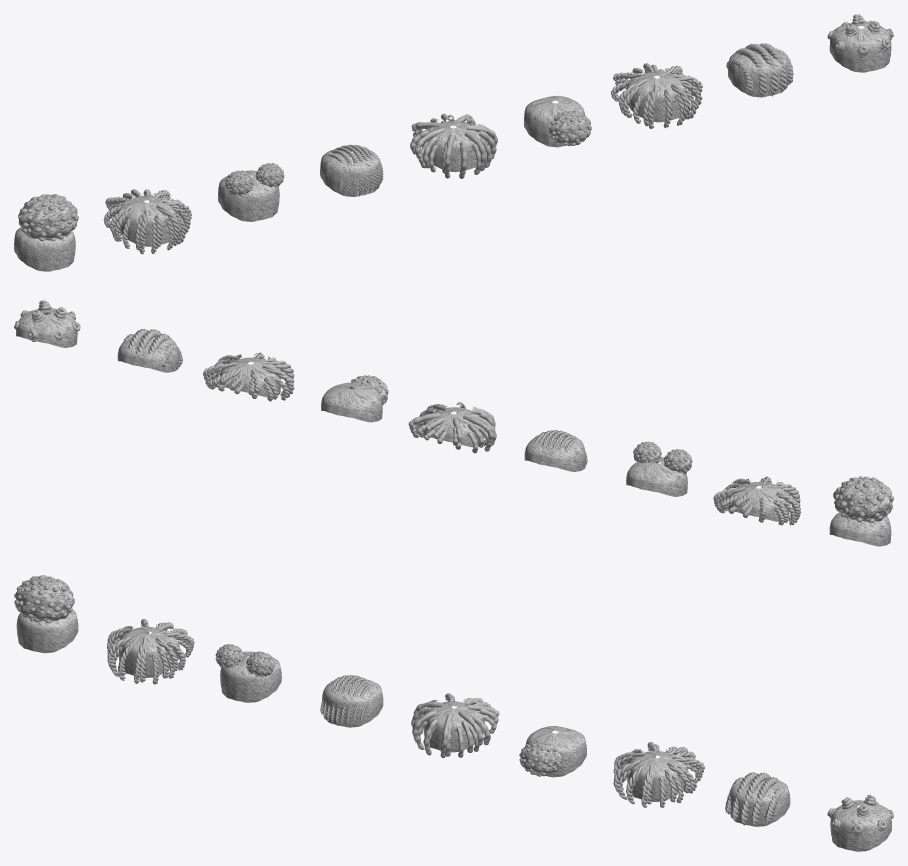
File: resident-grooms.glb
The picture shows the model from 3 angles, top to bottom: view 1: azimuth 30°, elevation 25°; view 2: azimuth 150°, elevation 25°; view 3: azimuth 330°, elevation 25°; orthographic projection.
Visible parts, largest first — view 1: Twist out, Twists, Short locs, High puff, Twin buns, Barrel twists, Bantu knots, Low puff, Cornrows; view 2: High puff, Twist out, Short locs, Twists, Twin buns, Low puff, Bantu knots, Barrel twists, Cornrows; view 3: Twist out, High puff, Twists, Short locs, Twin buns, Bantu knots, Barrel twists, Low puff, Cornrows.
Boxes of the visible parts, x1,y1,x2,y2 form: Twist out: (611, 63, 702, 128); Twists: (103, 189, 191, 254); Short locs: (410, 113, 497, 178); High puff: (14, 194, 78, 271); Twin buns: (218, 163, 284, 221); Barrel twists: (726, 43, 793, 97); Bantu knots: (827, 14, 893, 72); Low puff: (524, 95, 591, 147); Cornrows: (320, 144, 383, 196); High puff: (829, 476, 893, 546); Twist out: (203, 352, 294, 401); Short locs: (408, 402, 496, 453); Twists: (713, 476, 800, 525); Twin buns: (626, 441, 692, 496); Low puff: (321, 375, 388, 422); Bantu knots: (14, 300, 80, 347); Barrel twists: (117, 329, 182, 372); Cornrows: (524, 430, 587, 471); Twist out: (613, 742, 704, 807); High puff: (14, 575, 78, 653); Twists: (107, 619, 194, 684); Short locs: (411, 693, 499, 757); Twin buns: (215, 644, 281, 702); Bantu knots: (827, 794, 893, 851); Barrel twists: (725, 772, 790, 826); Low puff: (519, 726, 586, 777); Cornrows: (320, 675, 383, 727).
Bounding box in the file's own units: 17.11 × 1.31 × 1.57.
1 material, 1 textured.
